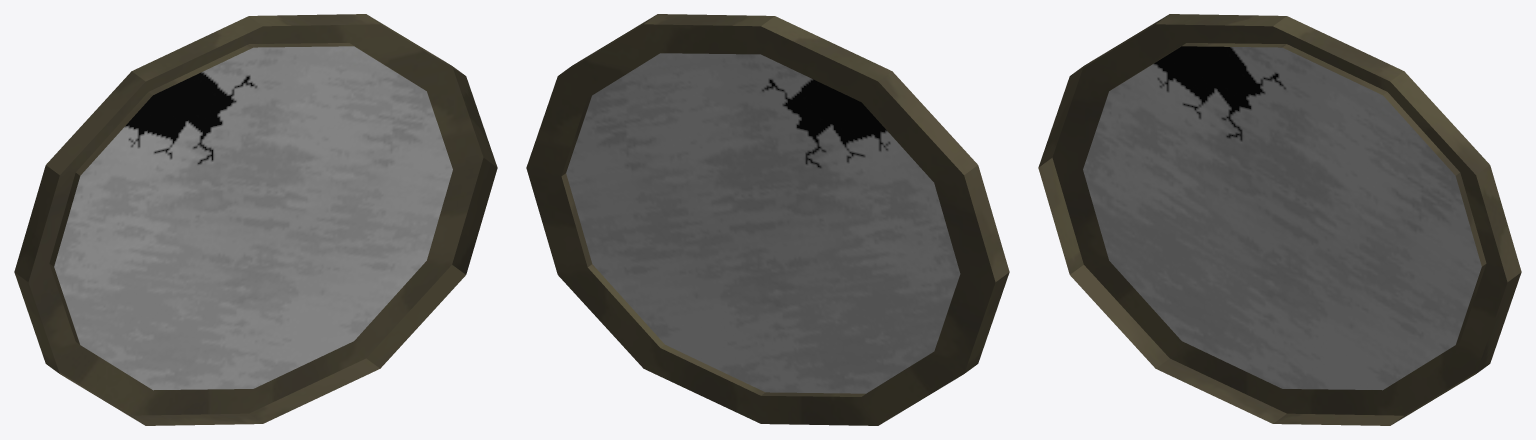
File: propBathroomMirror.fbx
3 views of the same model, side by side, from view 1: azimuth 30°, elevation 25°; view 2: azimuth 150°, elevation 25°; view 3: azimuth 330°, elevation 25° (orthographic).
Parts seen in each view (by area): view 1: bathroomMirror; view 2: bathroomMirror; view 3: bathroomMirror.
Boxes of the visible parts, x1,y1,x2,y2 form: bathroomMirror: (14,14,497,425); bathroomMirror: (526,14,1009,425); bathroomMirror: (1038,14,1521,425).
Size of the model in its own units: 1.17 by 0.9469 by 0.0609.
